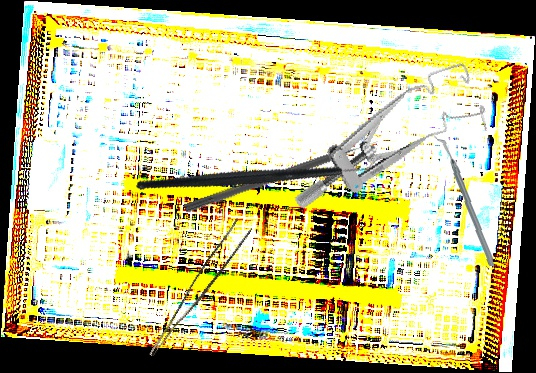Chopper: (135, 91, 385, 253), (429, 136, 501, 267)
Pusher: (183, 137, 381, 215)
Speculum: (270, 59, 498, 213)
Tissue Forceps: (148, 215, 254, 367)
